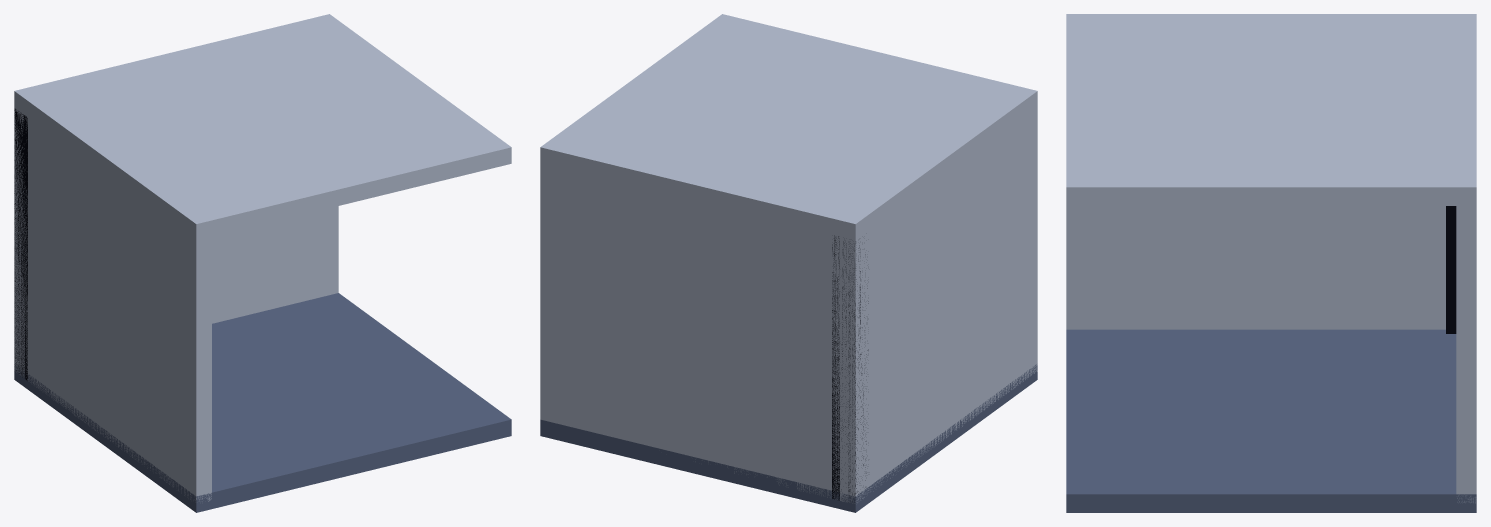
The model's file is corridor_corner.obj.
The picture shows the model from 3 angles, left to right: view 1: azimuth 30°, elevation 25°; view 2: azimuth 150°, elevation 25°; view 3: azimuth 270°, elevation 25°; orthographic projection. The views are drawn at different scales.
Visible parts, largest first — view 1: corridor_corner; view 2: corridor_corner; view 3: corridor_corner.
Boxes of the visible parts, box(x1,y1,x2,y2) form: corridor_corner: box(14, 14, 511, 512); corridor_corner: box(540, 14, 1037, 512); corridor_corner: box(1066, 14, 1476, 512).
Size of the model in its own units: 4 by 3.5 by 4.
